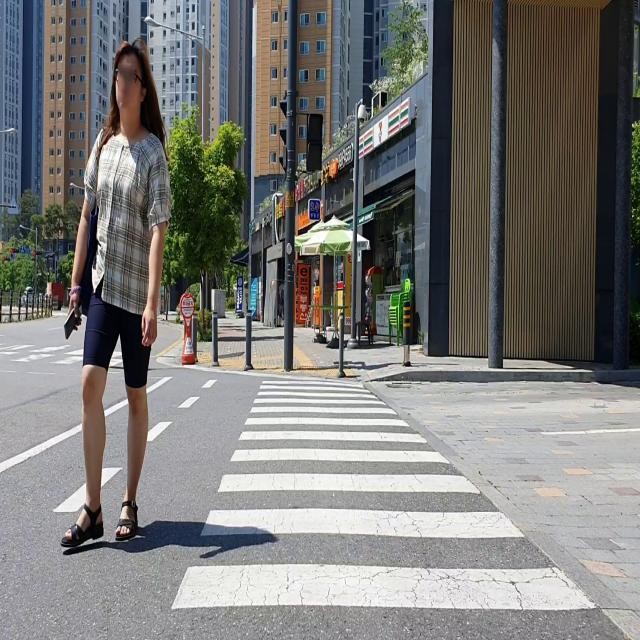횡단보도: (167, 377, 599, 615), (0, 338, 84, 368)
